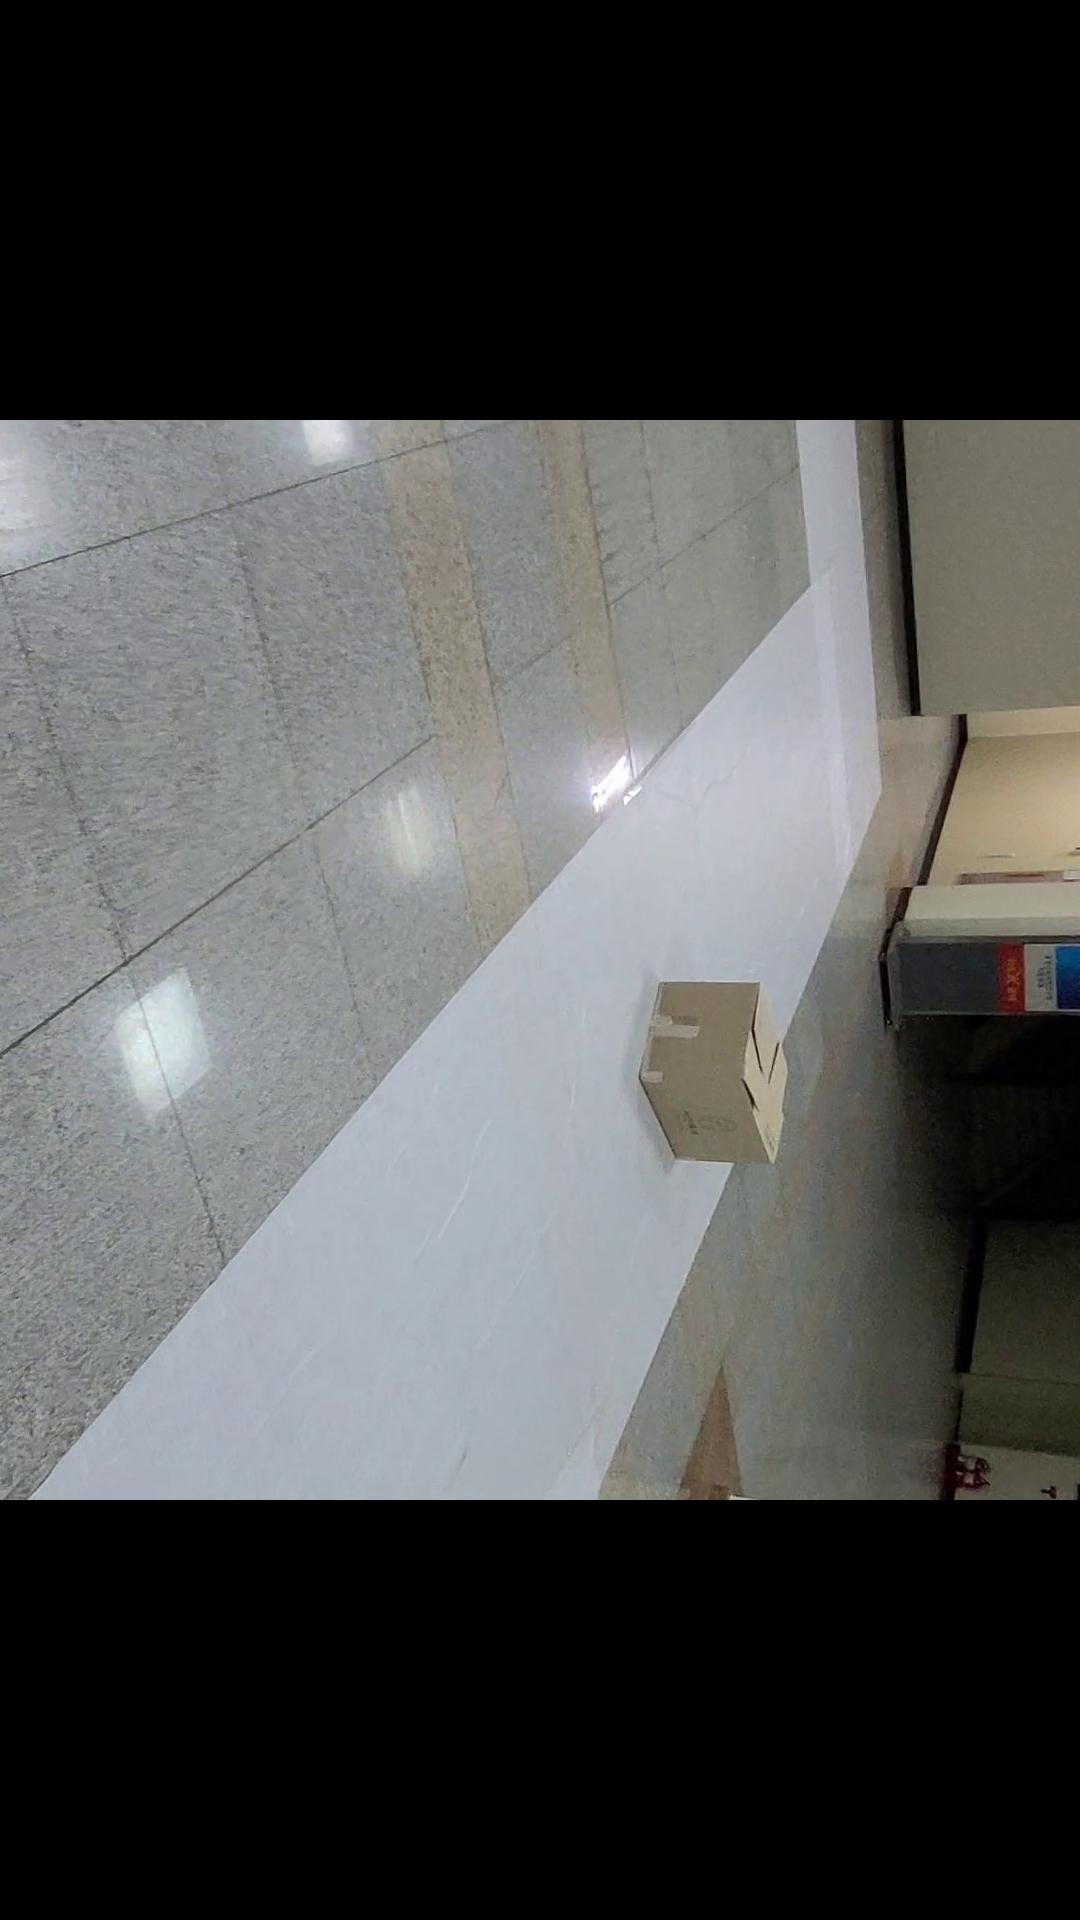Box: (592, 909, 827, 1226)
